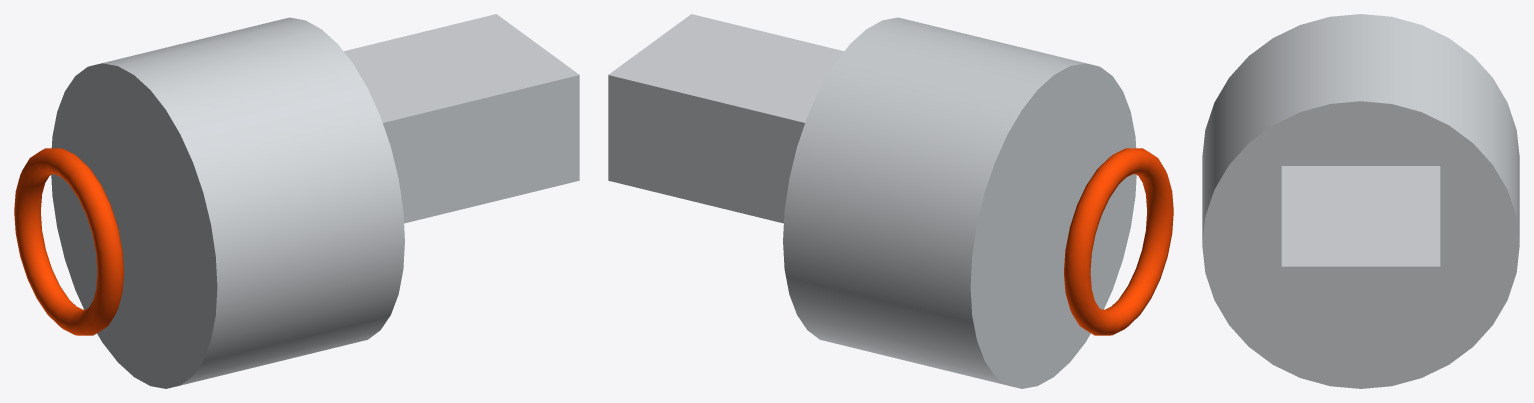
The model's file is whistle.glb.
The picture shows the model from 3 angles, left to right: view 1: azimuth 30°, elevation 25°; view 2: azimuth 150°, elevation 25°; view 3: azimuth 270°, elevation 25°; orthographic projection. The views are drawn at different scales.
Bounding box in the file's own units: 1.67 × 1 × 1.
